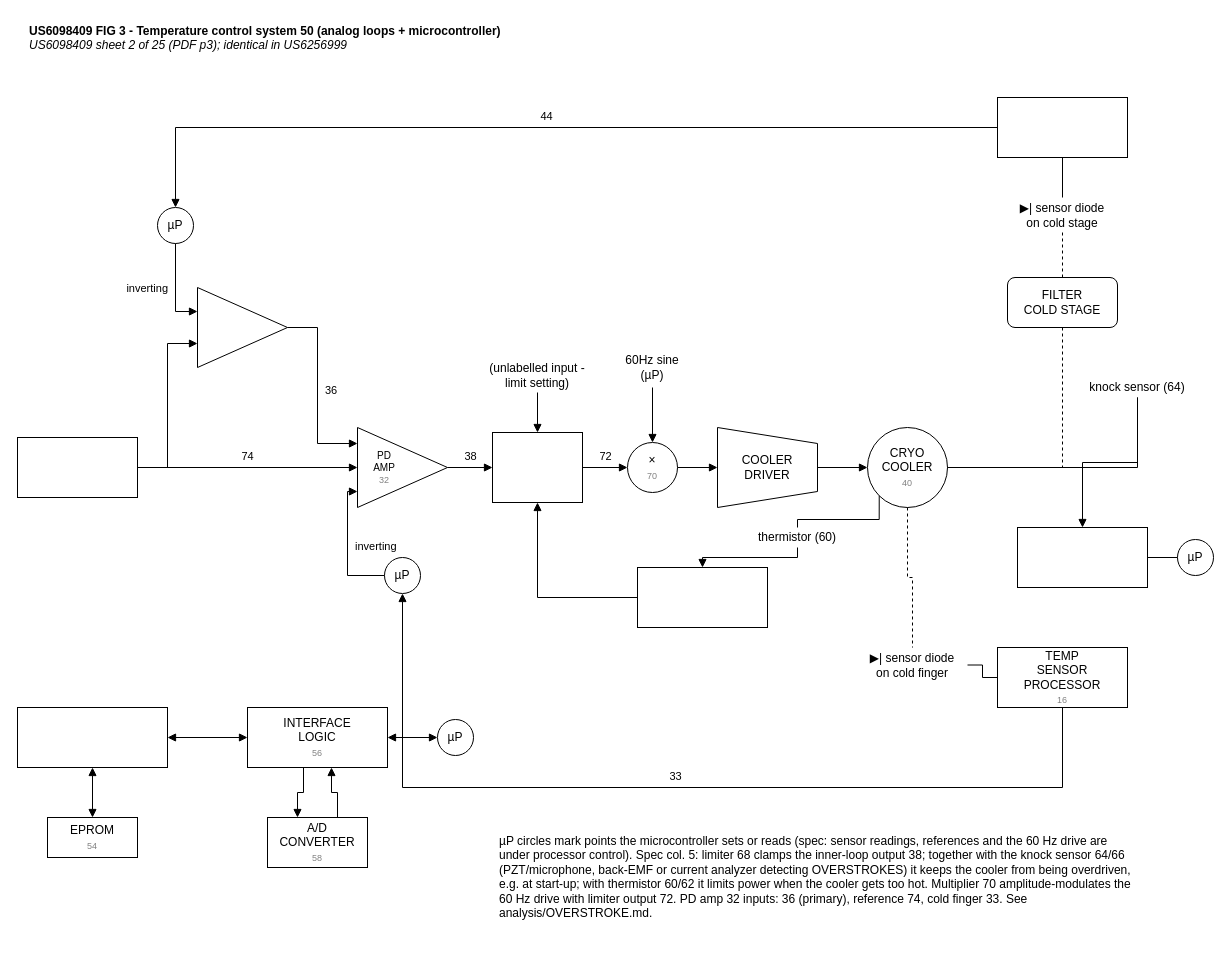
Some shapes in this 1231 by 954 pixel diagram are drawn without their labels. Here are the shapes that lost their labels. From the top down, the box of each, then its label:
(996, 96, 1128, 158): TEMP SENSOR PROCESSOR 20
(196, 286, 288, 368): PID AMP 34
(16, 436, 138, 498): SYSTEM TEMP REFERENCE (µP) 78
(492, 432, 582, 502): LIMITER (drawn as a clipping box) 68
(1016, 526, 1148, 588): "KNOCK" SENSOR PROCESSOR 66
(636, 566, 768, 628): THERMISTOR SENSOR PROCESSOR 62
(16, 706, 168, 768): MICROCONTROLLER 52
